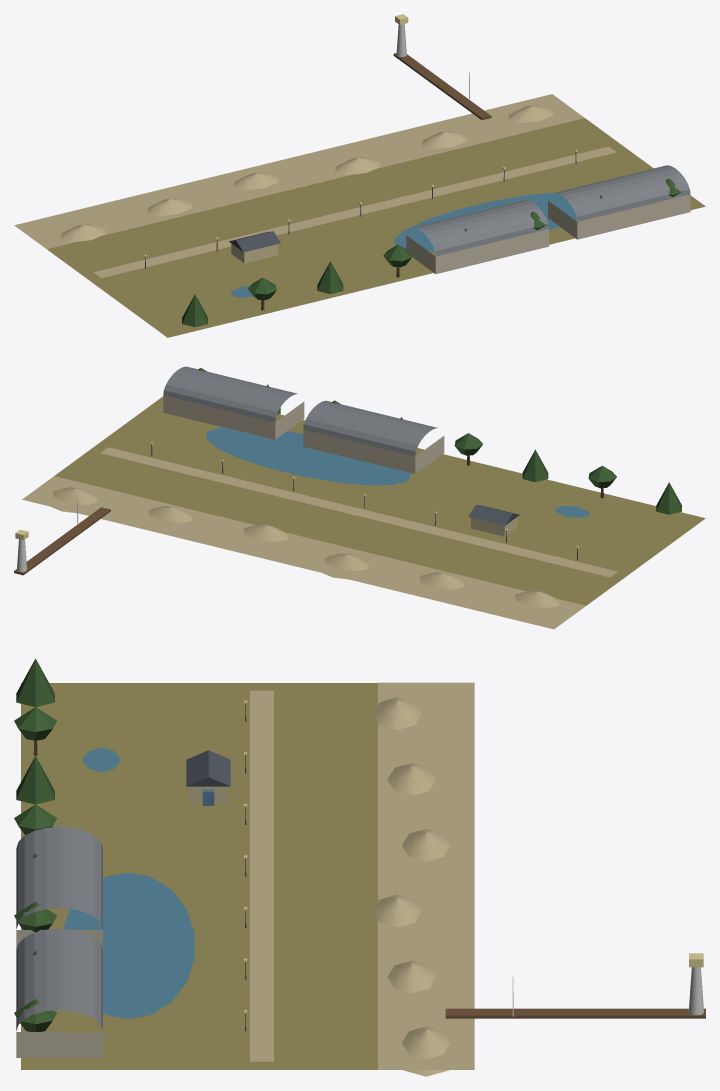
The model's file is desktop.glb.
The picture shows the model from 3 angles, top to bottom: view 1: azimuth 30°, elevation 25°; view 2: azimuth 150°, elevation 25°; view 3: azimuth 270°, elevation 25°; orthographic projection. The views are drawn at different scales.
Parts seen in each view (by area): view 1: lm.crissy-field; view 2: lm.crissy-field; view 3: lm.crissy-field.
Boxes of the visible parts, left/top/right/bottom form: lm.crissy-field: left=14, top=14, right=705, bottom=337; lm.crissy-field: left=14, top=366, right=705, bottom=629; lm.crissy-field: left=14, top=658, right=705, bottom=1076.
Size of the model in its own units: 190 by 15.2 by 143.
